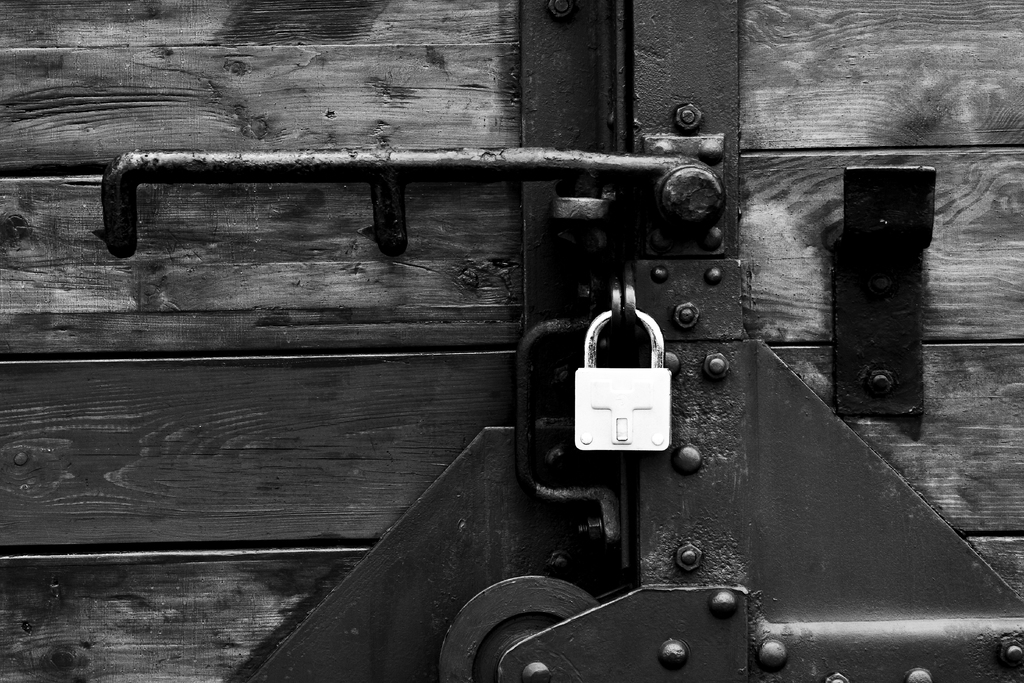handle: (98, 138, 701, 236)
